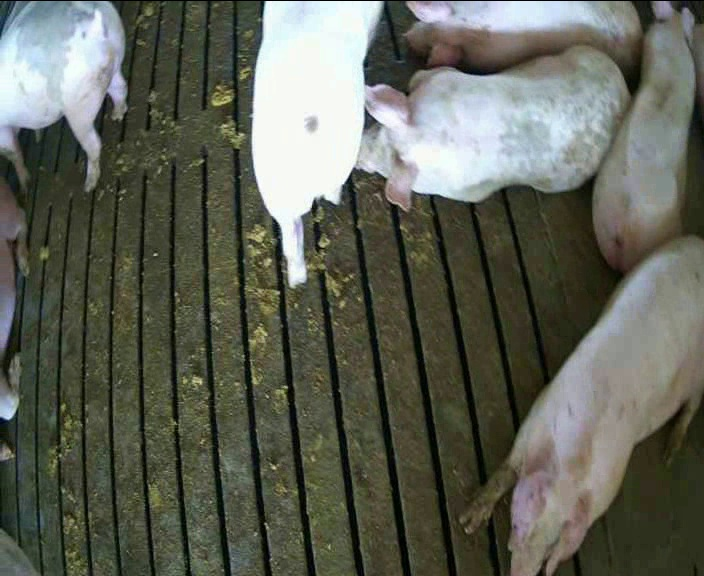pig: (459, 237, 703, 574), (357, 46, 629, 208), (252, 2, 381, 286), (593, 1, 694, 270), (406, 1, 641, 74)
